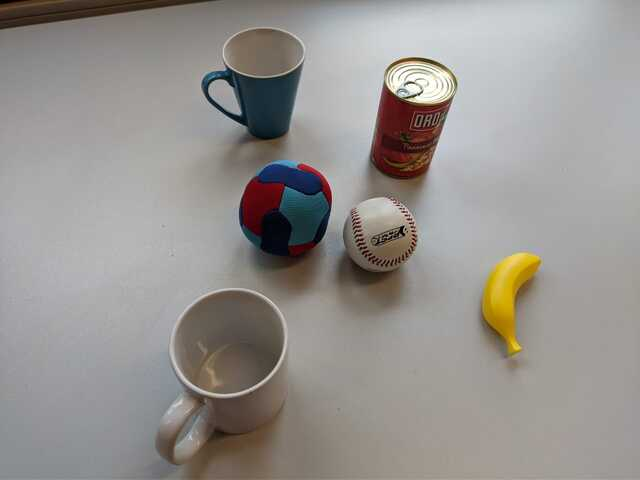005_tomato_soup_can: (368, 50, 461, 183)
011_banana: (478, 245, 547, 363)
025_mug: (151, 285, 294, 467), (197, 24, 308, 144)
055_baseball: (342, 194, 420, 277)
057_racquetball: (235, 155, 338, 262)
